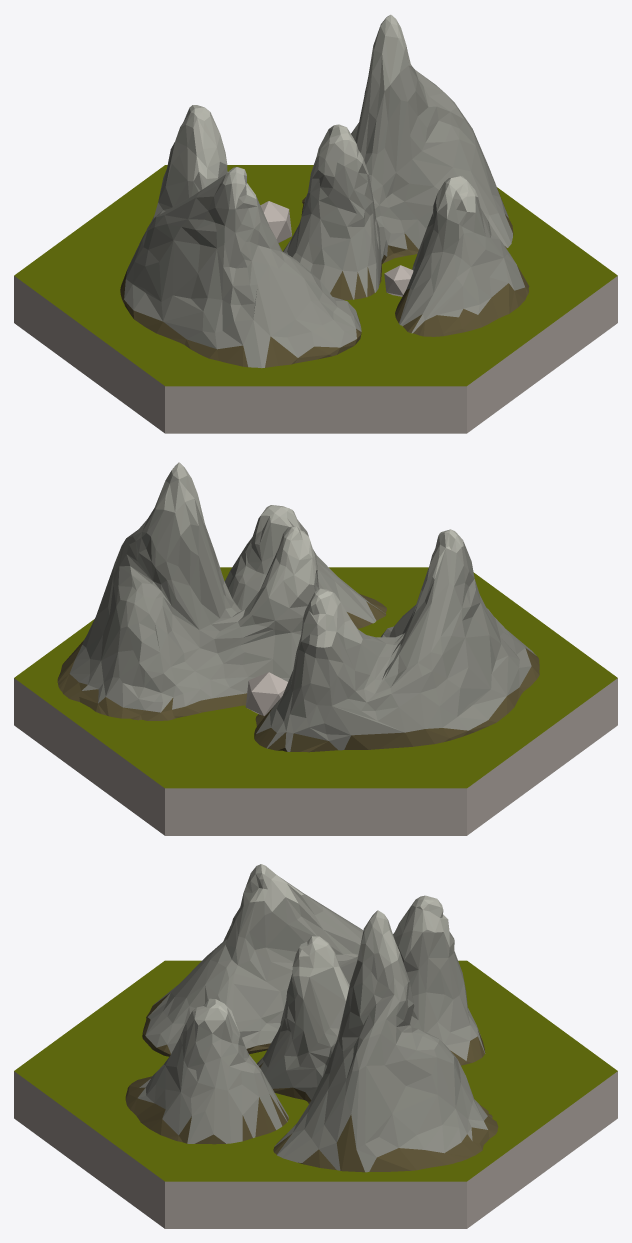
The model's file is hex_mountain.glb.
The picture shows the model from 3 angles, top to bottom: view 1: azimuth 30°, elevation 25°; view 2: azimuth 150°, elevation 25°; view 3: azimuth 270°, elevation 25°; orthographic projection.
Visible parts, largest first — view 1: Mountain_Group_1, hex_mountain; view 2: Mountain_Group_1, hex_mountain; view 3: Mountain_Group_1, hex_mountain.
Boxes of the visible parts, bbox=[...] form: Mountain_Group_1: bbox=[120, 14, 529, 368]; hex_mountain: bbox=[14, 165, 617, 433]; Mountain_Group_1: bbox=[57, 462, 539, 752]; hex_mountain: bbox=[14, 567, 617, 835]; Mountain_Group_1: bbox=[125, 864, 498, 1172]; hex_mountain: bbox=[14, 960, 617, 1228].
Size of the model in its own units: 1 by 0.5486 by 1.15.
